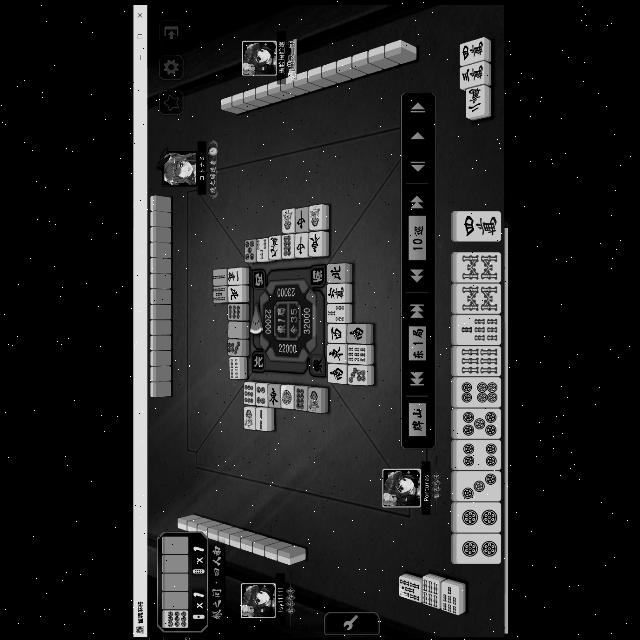1m: (228, 268, 240, 284)
1p: (280, 384, 294, 408)
1s: (308, 204, 322, 228), (308, 387, 320, 411), (282, 208, 294, 232), (243, 407, 255, 429)
2m: (465, 85, 483, 116)
2p: (456, 502, 500, 532), (456, 534, 502, 562)
2s: (255, 408, 267, 430), (212, 268, 226, 284)
3m: (460, 61, 484, 88)
3p: (456, 471, 502, 501)
3s: (326, 302, 344, 322), (256, 236, 266, 262)
4m: (456, 210, 499, 240), (458, 34, 484, 64)
4p: (457, 438, 501, 469), (255, 382, 267, 404)
4s: (229, 357, 239, 378)
5p: (456, 409, 500, 439), (244, 239, 256, 261)
5s: (398, 576, 420, 602), (212, 286, 226, 302)
6m: (326, 282, 344, 302)
6p: (456, 377, 500, 405)
6s: (456, 345, 499, 375), (422, 576, 438, 608)
7p: (346, 364, 366, 384), (226, 339, 242, 355)
7s: (457, 314, 501, 344), (441, 581, 459, 615)
8p: (280, 233, 294, 257), (294, 386, 306, 410)
8s: (456, 252, 500, 282), (457, 284, 501, 312)
9m: (268, 235, 280, 259)
9p: (164, 609, 186, 627), (243, 381, 254, 405), (227, 302, 241, 320)
9s: (346, 344, 366, 364)
chun: (294, 232, 308, 256), (294, 206, 308, 230)
haku: (227, 320, 241, 338)
nan: (346, 323, 366, 343), (326, 363, 346, 382)
pe: (327, 263, 343, 281), (228, 286, 242, 300)
sha: (326, 324, 346, 342)
tou: (325, 343, 345, 362), (308, 232, 320, 254), (268, 383, 278, 407)
